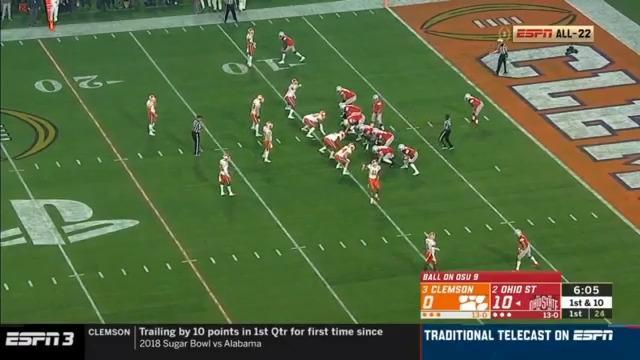player: (276, 30, 305, 67), (515, 228, 539, 270), (365, 157, 383, 208), (423, 230, 442, 276), (143, 92, 161, 140), (217, 153, 235, 200), (248, 93, 266, 140), (368, 127, 396, 157), (333, 142, 356, 178), (319, 131, 347, 159), (301, 110, 328, 139), (398, 143, 421, 177), (464, 92, 485, 128), (262, 121, 279, 165), (283, 78, 300, 121), (244, 28, 259, 70), (369, 92, 385, 131), (341, 111, 365, 137), (360, 123, 380, 153), (339, 103, 364, 126), (374, 144, 396, 166), (337, 85, 359, 106)
ref: (438, 112, 457, 151), (189, 115, 204, 159), (494, 40, 510, 79), (222, 0, 237, 23)
